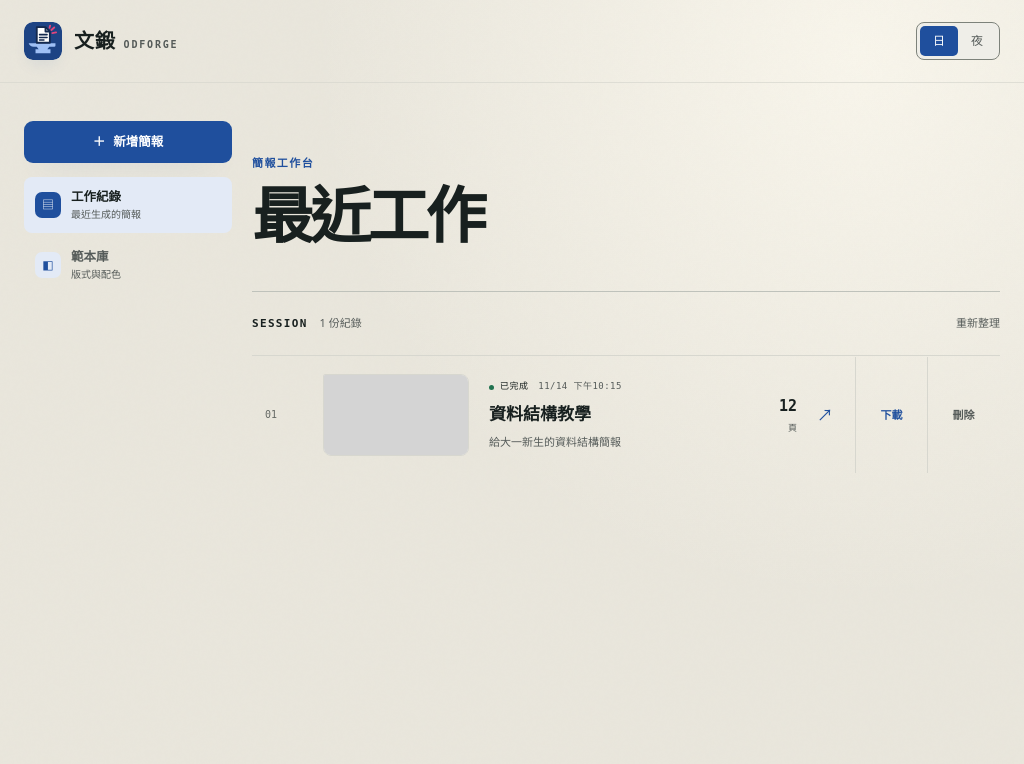
Test case: 首頁顯示新增入口與過去 session
This screenshot has width=1024, height=764.
Check: the text "資料結構教學" is shown, box [489,405,591,424]
Check: the text "12" is shown, box [779,395,797,419]
What coordinates should you click on to do the following:
click the button "＋ 新增簡報"
I would click on:
 (128, 142)
Its box is [24,121,232,163].
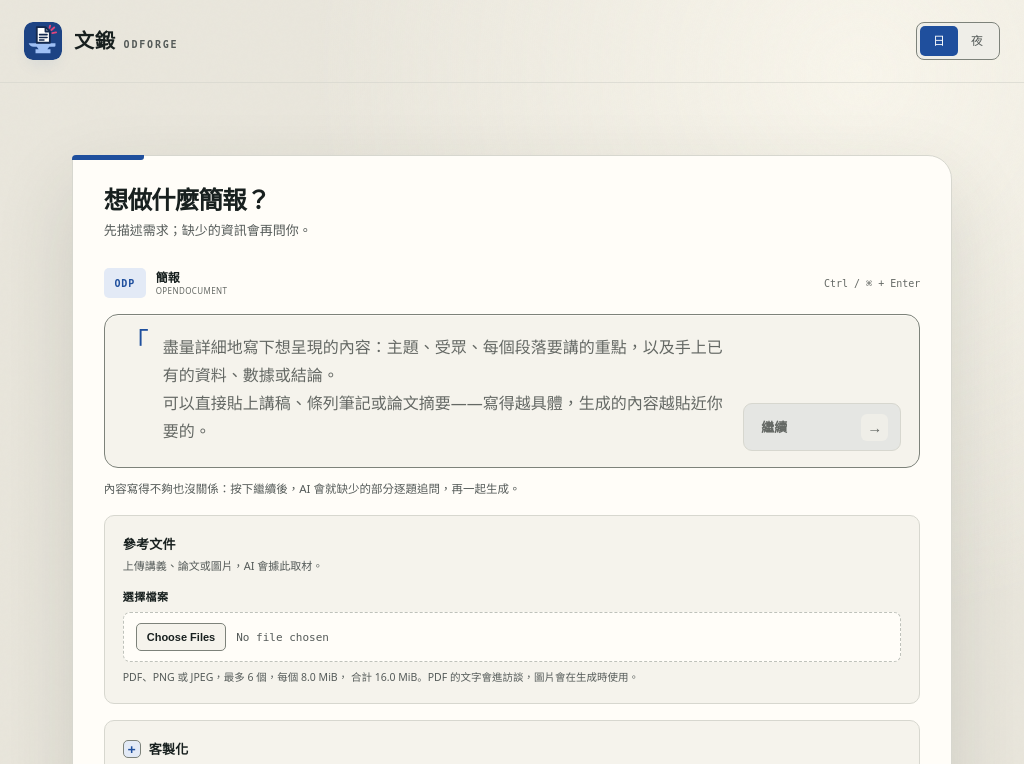
Check: the text box labelled "主題" is shown, box [163,333,729,445]
